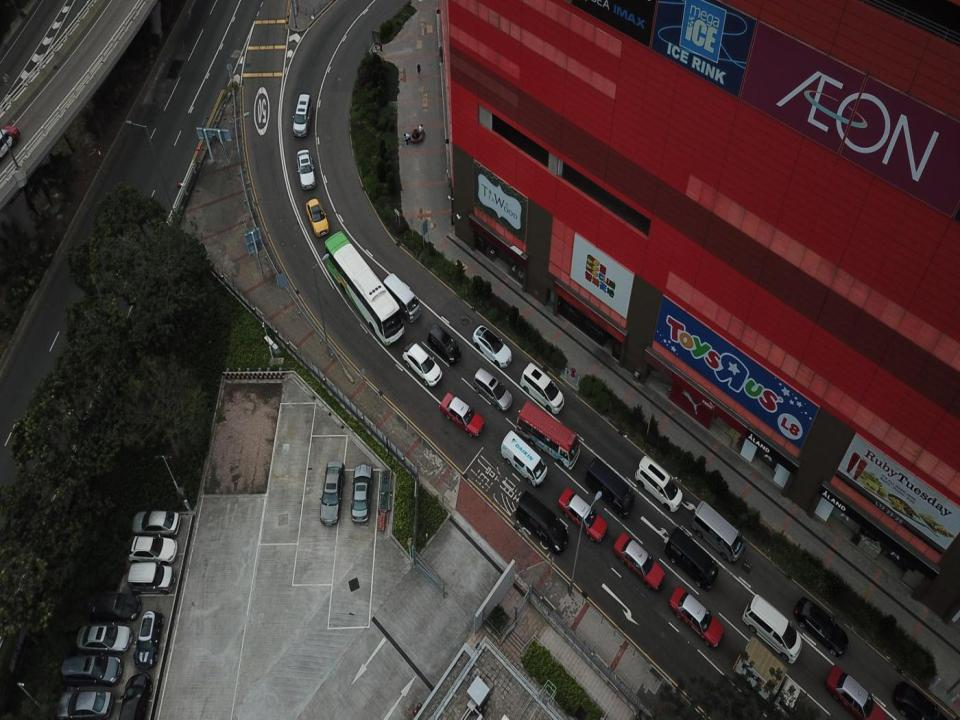bus: (324, 231, 406, 344), (516, 400, 580, 471)
car: (669, 584, 724, 650), (826, 663, 890, 719), (794, 595, 850, 656), (614, 528, 666, 590), (557, 487, 608, 544), (438, 391, 485, 438), (81, 587, 144, 622), (894, 681, 948, 719), (61, 654, 121, 688), (402, 340, 444, 387), (52, 688, 115, 719), (470, 324, 512, 369), (317, 460, 345, 527), (76, 622, 134, 654), (126, 558, 176, 594), (134, 610, 163, 670), (118, 672, 154, 719), (426, 322, 463, 366), (349, 465, 374, 524), (128, 537, 179, 563), (132, 511, 182, 535), (290, 92, 313, 140), (305, 196, 328, 236), (296, 148, 316, 191)
truck: (734, 634, 806, 716)
van: (741, 593, 804, 662), (688, 500, 744, 564), (666, 528, 719, 590), (516, 490, 566, 552), (635, 450, 683, 513), (587, 455, 634, 517), (518, 358, 564, 416), (501, 428, 547, 485), (382, 273, 422, 324), (474, 366, 512, 412)
